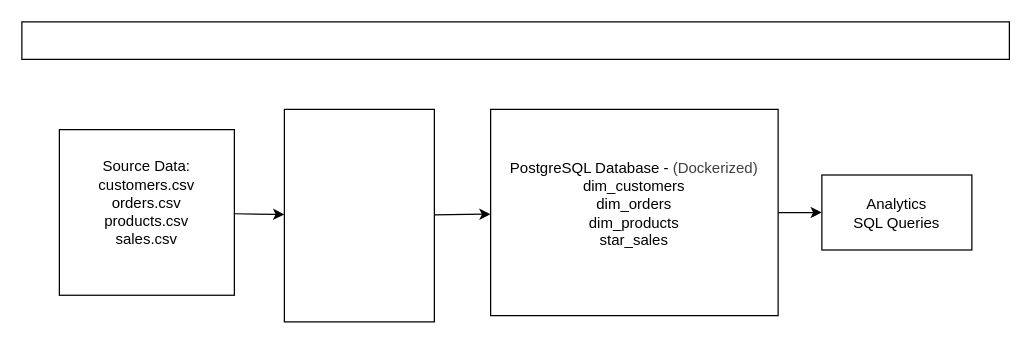
The diagram is 1031 pixels wide and 344 high, and some of its shapes have lost their labels. Here are the shapes that lost their labels. From the top down, the box of each, then its label:
(21, 21, 1009, 59): Architecture Diagram Week 1: Initial ETL Set-Up
(283, 108, 434, 322): ETL Scripts: Extract ▼ Transform and Load
